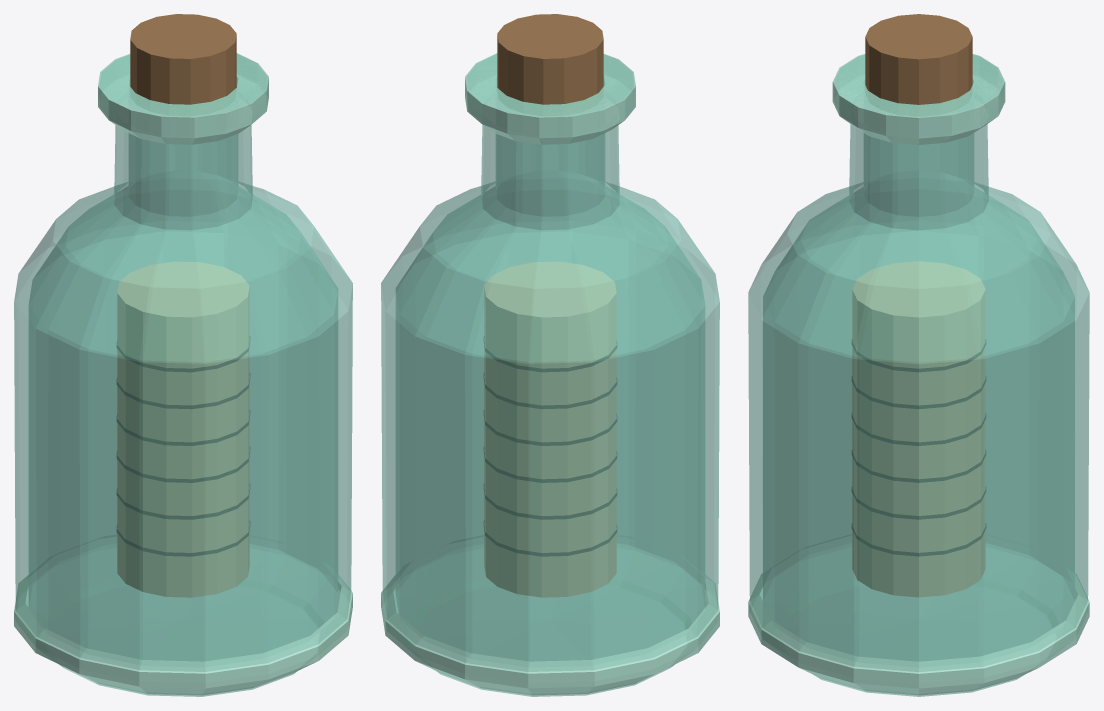
The model's file is sealed_bottle.glb.
3 views of the same model, side by side, from view 1: azimuth 30°, elevation 25°; view 2: azimuth 150°, elevation 25°; view 3: azimuth 270°, elevation 25° (orthographic).
Parts seen in each view (by area): view 1: Bottle_glass, Rolled_message, Bottle_base, Cork, Bottle_lip; view 2: Bottle_glass, Rolled_message, Bottle_base, Cork, Bottle_lip; view 3: Bottle_glass, Rolled_message, Bottle_base, Cork, Bottle_lip.
Boxes of the visible parts, <box> form: Bottle_glass: <box>14,54,352,696</box>; Rolled_message: <box>117,262,249,597</box>; Bottle_base: <box>14,535,352,695</box>; Cork: <box>130,14,236,104</box>; Bottle_lip: <box>98,53,268,144</box>; Bottle_glass: <box>381,54,719,696</box>; Rolled_message: <box>484,262,616,597</box>; Bottle_base: <box>381,535,719,695</box>; Cork: <box>497,14,603,104</box>; Bottle_lip: <box>465,53,635,144</box>; Bottle_glass: <box>748,55,1089,696</box>; Rolled_message: <box>852,261,985,596</box>; Bottle_base: <box>748,534,1089,695</box>; Cork: <box>865,14,972,104</box>; Bottle_lip: <box>832,54,1005,144</box>.
Bounding box in the file's own units: 0.21 × 0.4085 × 0.21.
